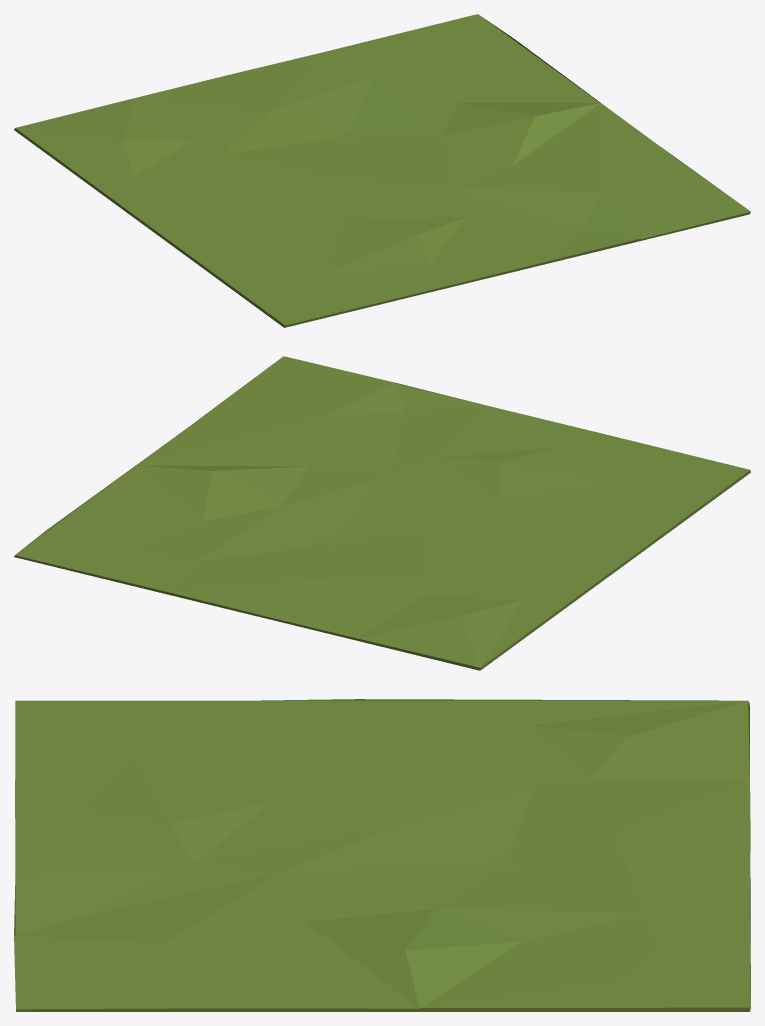
File: Grass_Module_1M.glb
3 renders of one model, top to bottom at view 1: azimuth 30°, elevation 25°; view 2: azimuth 150°, elevation 25°; view 3: azimuth 270°, elevation 25°, orthographic. The views are drawn at different scales.
Parts seen in each view (by area): view 1: Grass_Module_1M; view 2: Grass_Module_1M; view 3: Grass_Module_1M.
Part boxes in pixels (box(x1,y1,x2,y2)): Grass_Module_1M: box(14, 14, 750, 327); Grass_Module_1M: box(14, 356, 750, 670); Grass_Module_1M: box(14, 699, 750, 1011).
Size of what is drawn, in the model's own units: 1 by 0.0222 by 1.
Materials: 1 (1 with a texture image).
